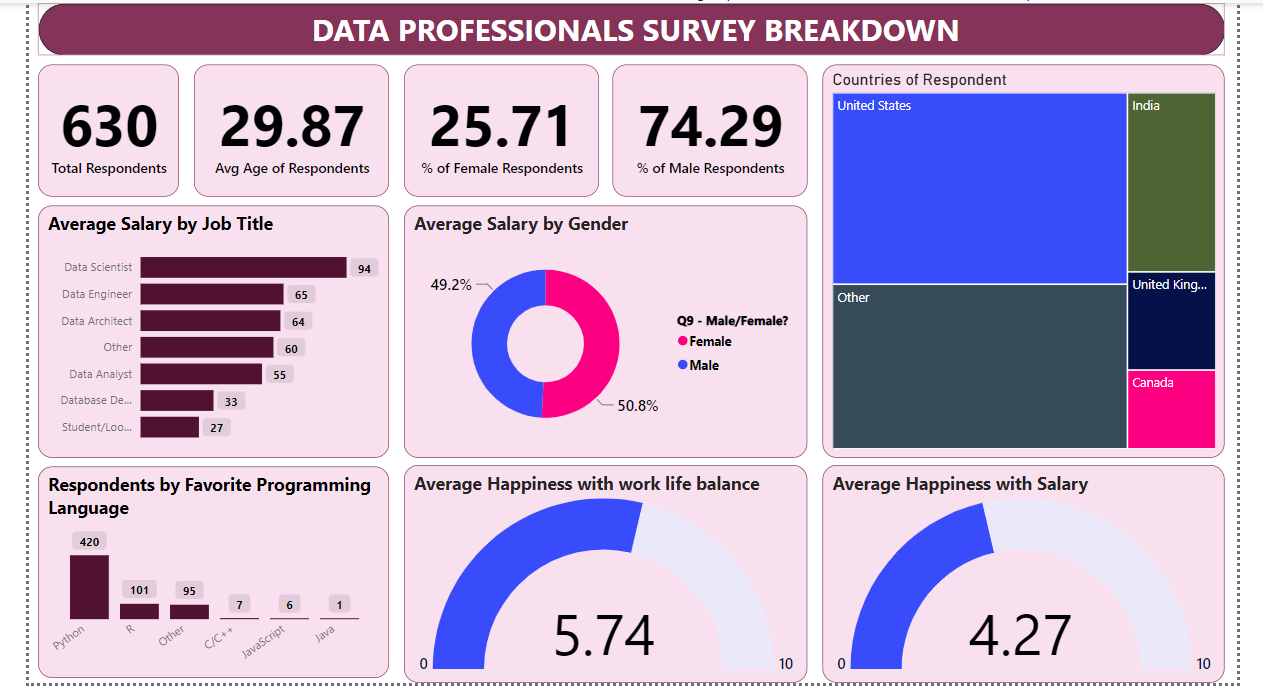

What the dashboard file says about the page in this screenshot:
{"tool":"powerbi","page":{"name":"Page 2","canvas":[1280,720],"ordinal":0},"visuals":[{"type":"shape","box":[9.5,0,1257.2,55],"z":0},{"type":"textbox","box":[49.3,0,1187.3,65.2],"z":1000},{"type":"card","fields":{"Values":["Data Professional Survey.Total Respondents"]},"box":[9.5,65.2,149.4,139.9],"z":2000},{"type":"card","fields":{"Values":["Data Professional Survey.Avg Age of Respondents"]},"box":[174.8,65.2,206.6,139.9],"z":3000},{"type":"clusteredBarChart","title":"Average Salary by Job Title","fields":{"Y":["Avg(Data Professional Survey.Average Salary)"],"Category":["Data Professional Survey.Q1 - Which Title Best Fits your Current Role?.1"]},"box":[9.5,214.6,371.9,267],"z":4000},{"type":"clusteredColumnChart","fields":{"Category":["Data Professional Survey.Q5 - Favorite Programming Language.1"],"Y":["Data Professional Survey.Total Respondents"]},"box":[9.5,491.1,371.9,224.1],"z":5000},{"type":"donutChart","title":"Average  Salary by Gender","fields":{"Y":["Avg(Data Professional Survey.Average Salary)"],"Category":["Data Professional Survey.Q9 - Male/Female?"]},"box":[397.4,214.6,427.5,267],"z":6000},{"type":"card","fields":{"Values":["Data Professional Survey.% of Female"]},"box":[397.4,65.2,206.6,139.9],"z":7000},{"type":"card","fields":{"Values":["Data Professional Survey.% of Male"]},"box":[618.3,65.2,206.6,139.9],"z":8000},{"type":"treemap","title":"Countries of Respondent","fields":{"Group":["Data Professional Survey.Q11 - Which Country do you live in?.1"],"Values":["CountNonNull(Data Professional Survey.Unique ID)"]},"box":[840.8,65.2,426,416.4],"z":9000},{"type":"gauge","title":"Average Happiness with work life balance","fields":{"Y":["Avg(Data Professional Survey.Q6 - How Happy are you in your Current Position with the following? (Work/Life Balance))"],"MinValue":["Min(Data Professional Survey.Q6 - How Happy are you in your Current Position with the following? (Work/Life Balance))"],"MaxValue":["Max(Data Professional Survey.Q6 - How Happy are you in your Current Position with the following? (Work/Life Balance))"]},"box":[397.4,489.5,427.5,230.5],"z":10000},{"type":"gauge","title":"Average Happiness with Salary","fields":{"Y":["Avg(Data Professional Survey.Q6 - How Happy are you in your Current Position with the following? (Salary))"],"MinValue":["Min(Data Professional Survey.Q6 - How Happy are you in your Current Position with the following? (Salary))"],"MaxValue":["Max(Data Professional Survey.Q6 - How Happy are you in your Current Position with the following? (Salary))"]},"box":[840.8,489.5,426,230.5],"z":11000}]}

Visuals, with their boxes in screenshot pixels (x1, y1, x2, y2), scaled from the page's 1280x720 canvas onto the 1263x694 screenshot:
shape: [9, 0, 1250, 53]
textbox: [49, 0, 1220, 63]
card - Data Professional Survey.Total Respondents: [9, 63, 157, 198]
card - Data Professional Survey.Avg Age of Respondents: [172, 63, 376, 198]
"Average Salary by Job Title" clusteredBarChart: [9, 207, 376, 464]
clusteredColumnChart - Data Professional Survey.Q5 - Favorite Programming Language.1 x Data Professional Survey.Total Respondents: [9, 473, 376, 689]
"Average  Salary by Gender" donutChart: [392, 207, 814, 464]
card - Data Professional Survey.% of Female: [392, 63, 596, 198]
card - Data Professional Survey.% of Male: [610, 63, 814, 198]
"Countries of Respondent" treemap: [830, 63, 1250, 464]
"Average Happiness with work life balance" gauge: [392, 472, 814, 693]
"Average Happiness with Salary" gauge: [830, 472, 1250, 693]
